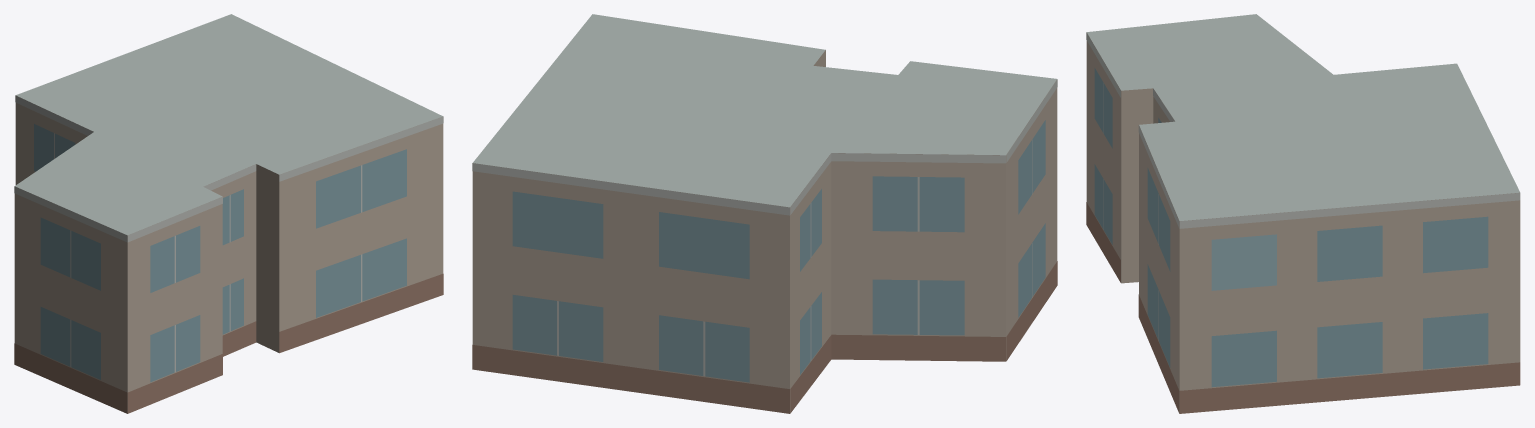
The model's file is survey-upis-32607744.glb.
3 renders of one model, left to right at view 1: azimuth 30°, elevation 25°; view 2: azimuth 150°, elevation 25°; view 3: azimuth 270°, elevation 25°, orthographic. The views are drawn at different scales.
Visible parts, largest first — view 1: survey-upis-32607744.tmp; view 2: survey-upis-32607744.tmp; view 3: survey-upis-32607744.tmp.
Boxes of the visible parts, box(x1,y1,x2,y2) form: survey-upis-32607744.tmp: box(14, 14, 443, 413); survey-upis-32607744.tmp: box(472, 14, 1057, 413); survey-upis-32607744.tmp: box(1086, 14, 1520, 413).
Bounding box in the file's own units: 14.07 × 6.1 × 12.46.
